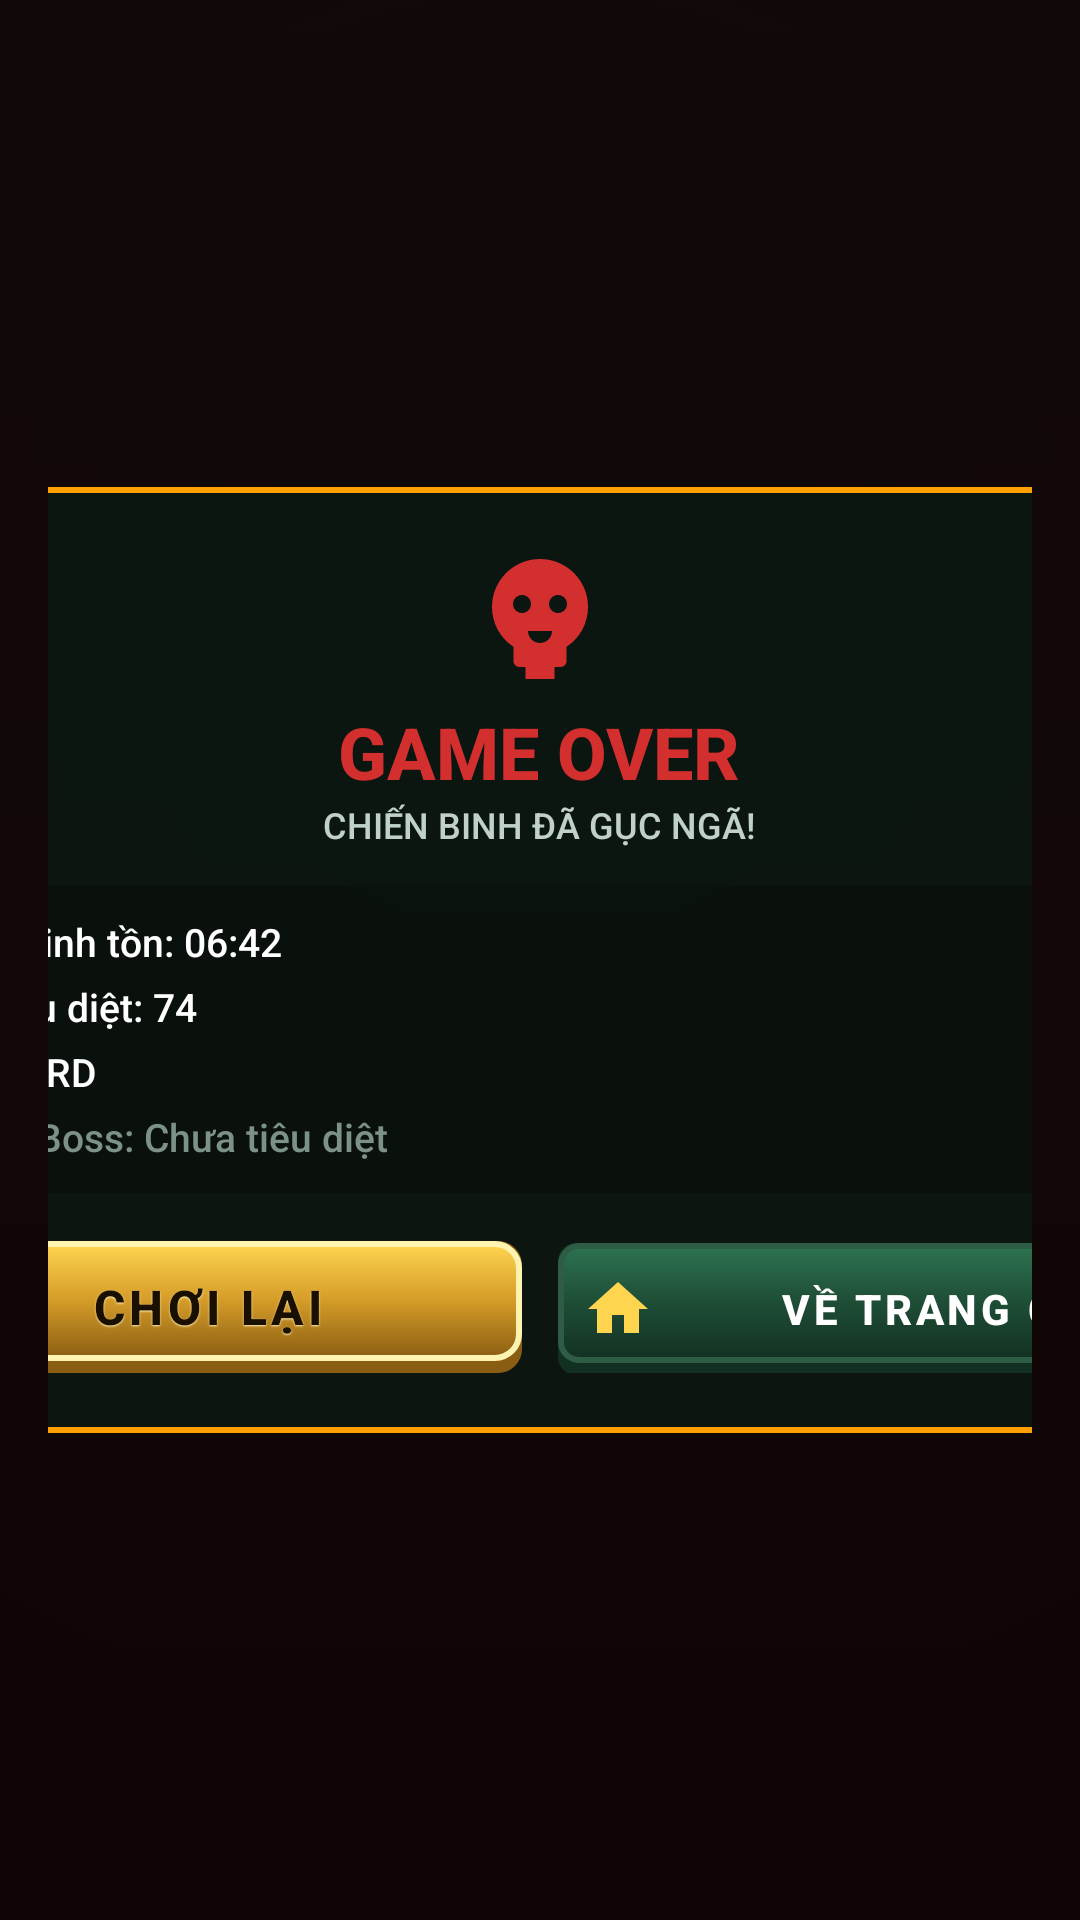

Point at icon controls on the screen. Image size 1080×1920, points as (x=x, y=y).
skull: (x=540, y=619)
